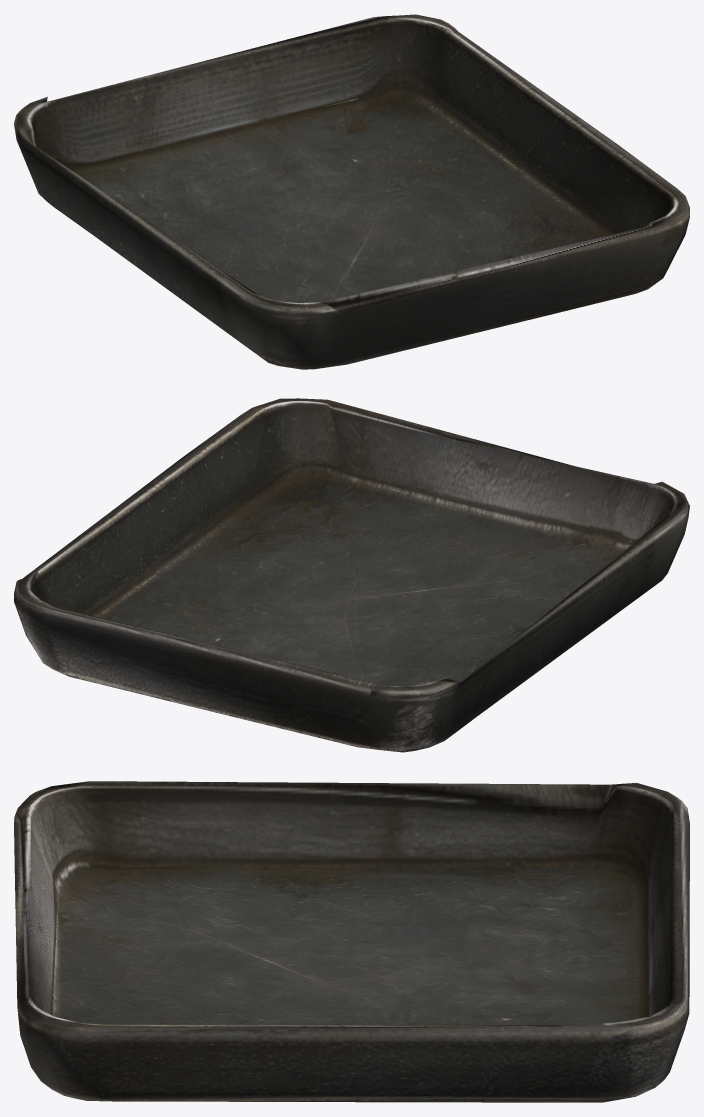
The model's file is metal tray.fbx.
The picture shows the model from 3 angles, top to bottom: view 1: azimuth 30°, elevation 25°; view 2: azimuth 150°, elevation 25°; view 3: azimuth 270°, elevation 25°; orthographic projection. The views are drawn at different scales.
Visible parts, largest first — view 1: metal tray; view 2: metal tray; view 3: metal tray.
Boxes of the visible parts, x1,y1,x2,y2 form: metal tray: (14, 14, 689, 369); metal tray: (14, 398, 689, 752); metal tray: (14, 781, 689, 1102).
Size of the model in its own units: 214 by 35.08 by 243.
Materials: 1 (1 with a texture image).
